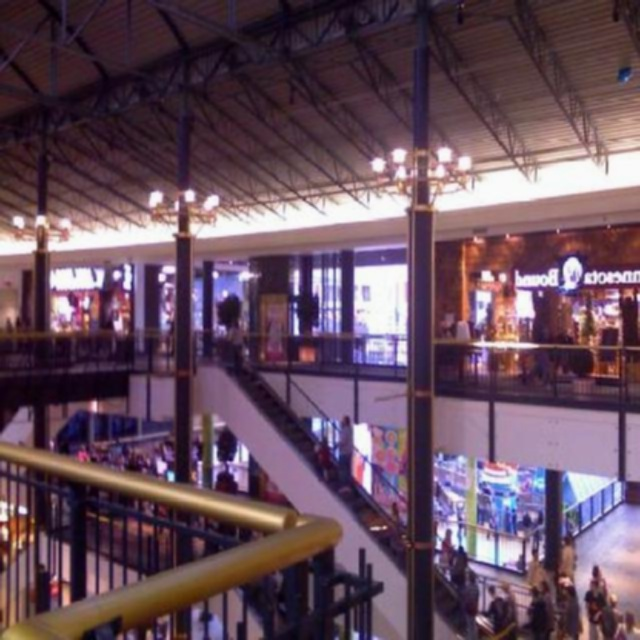stair: (228, 364, 482, 640)
